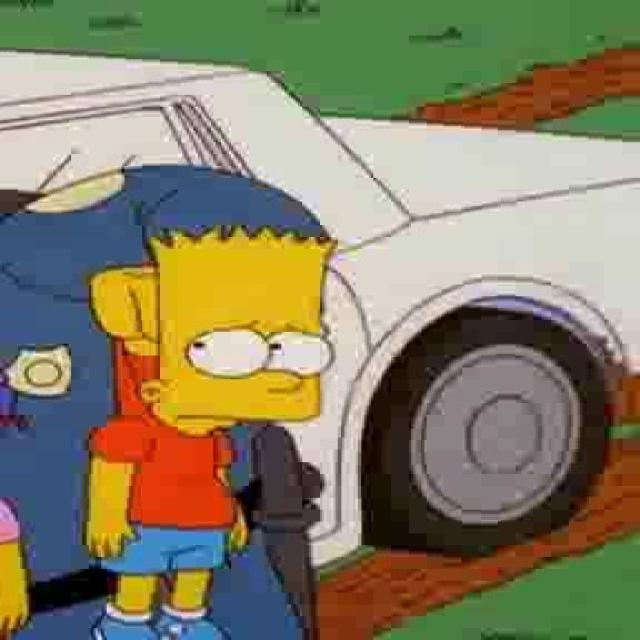Bart Simpson: (143, 228, 337, 440)
